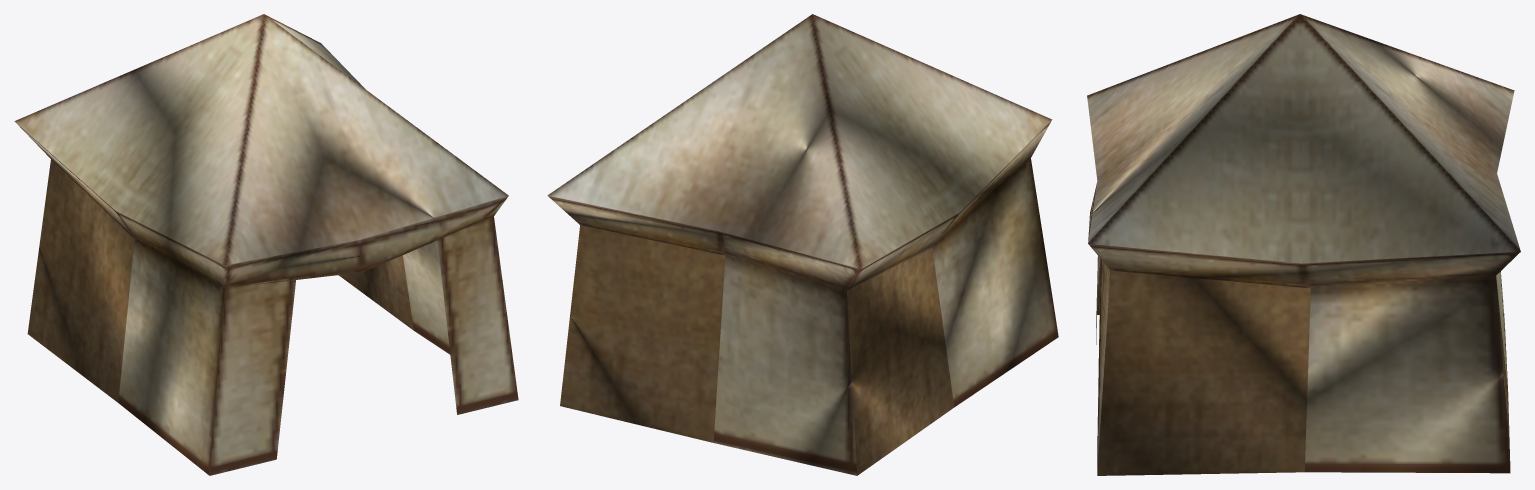
The model's file is b_general_obj_04.fbx.
3 views of the same model, side by side, from view 1: azimuth 30°, elevation 25°; view 2: azimuth 150°, elevation 25°; view 3: azimuth 270°, elevation 25° (orthographic). The views are drawn at different scales.
Visible parts, largest first — view 1: Mesh01; view 2: Mesh01; view 3: Mesh01.
Boxes of the visible parts, box(x1,y1,x2,y2) form: Mesh01: box(14, 14, 518, 475); Mesh01: box(547, 14, 1058, 475); Mesh01: box(1087, 14, 1520, 475).
Size of the model in its own units: 4.71 by 5.17 by 5.35.
